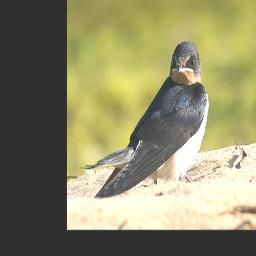Swallow: (80, 41, 210, 198)
